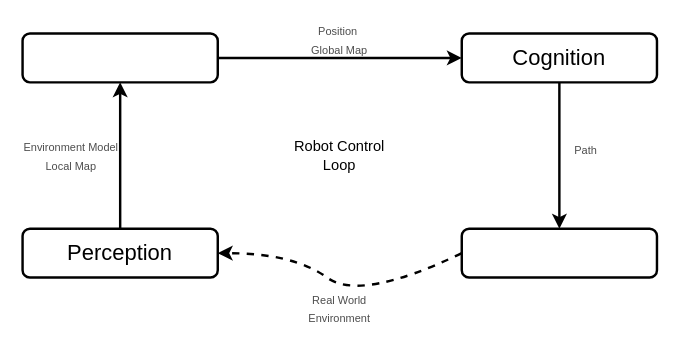
The diagram is 678 pixels wide and 346 high, and some of its shapes have lost their labels. Here are the shapes that lost their labels. From the top down, the centre of each, then its label:
point (119, 57): Localization
point (559, 252): Motion Control
